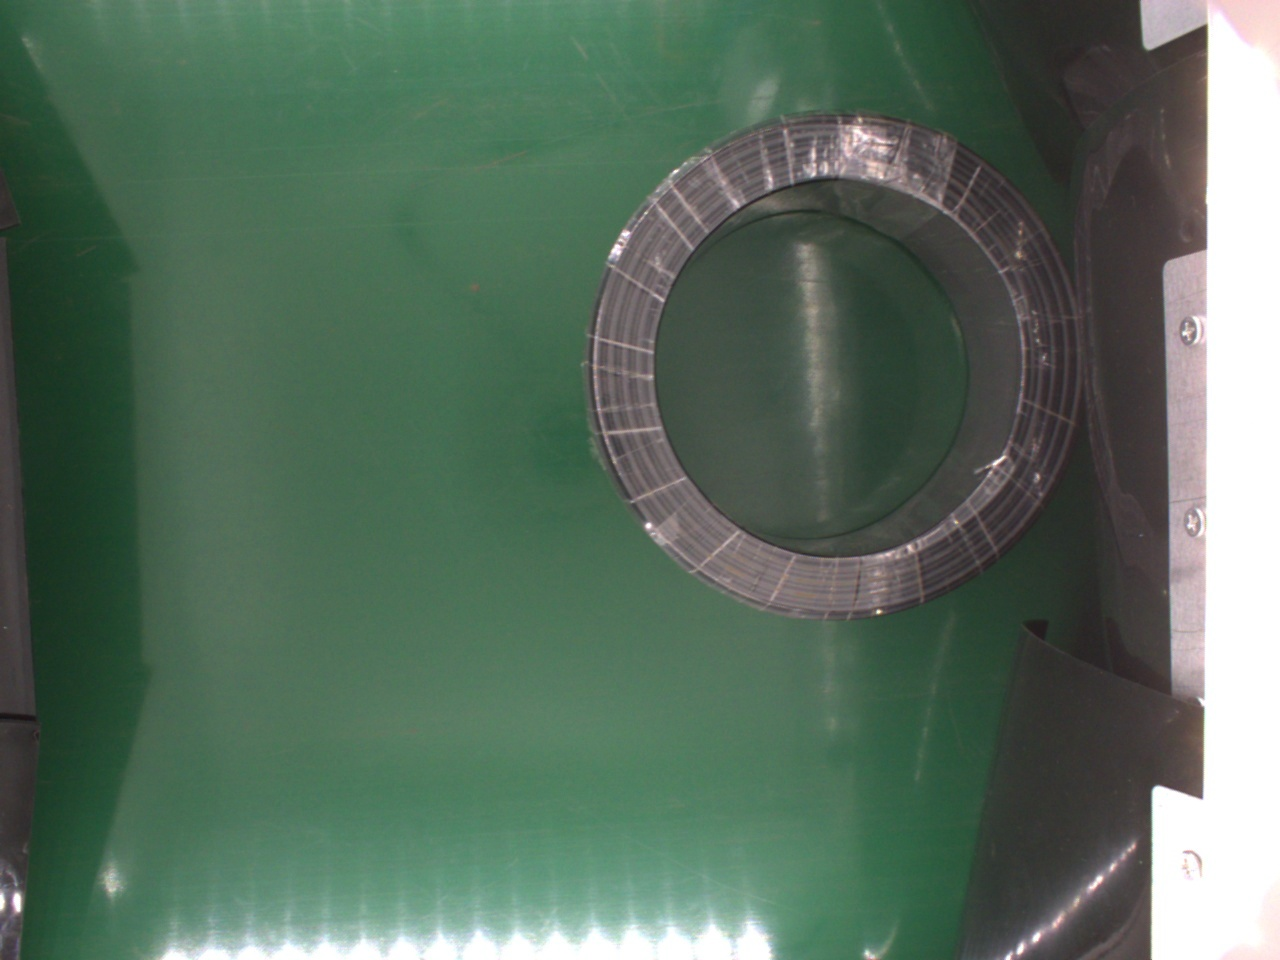black: (577, 108, 1087, 621)
